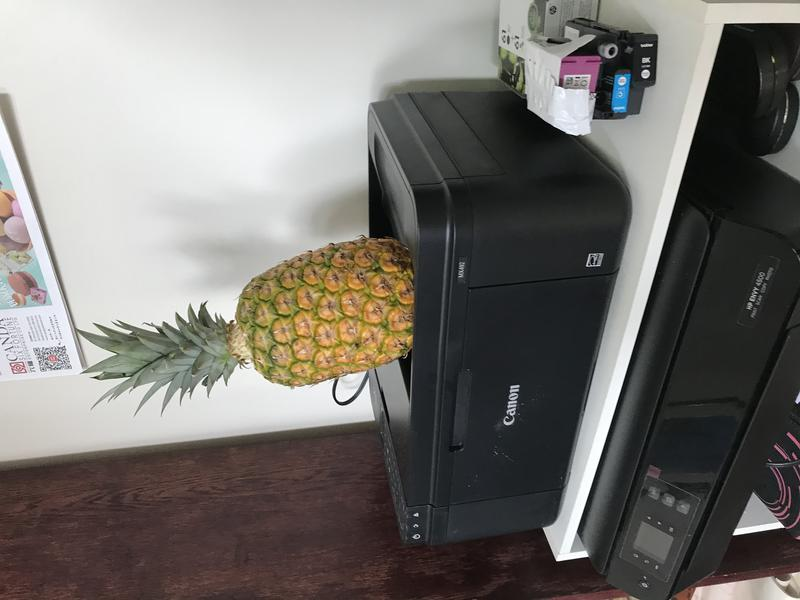pineapple: (67, 228, 432, 425)
